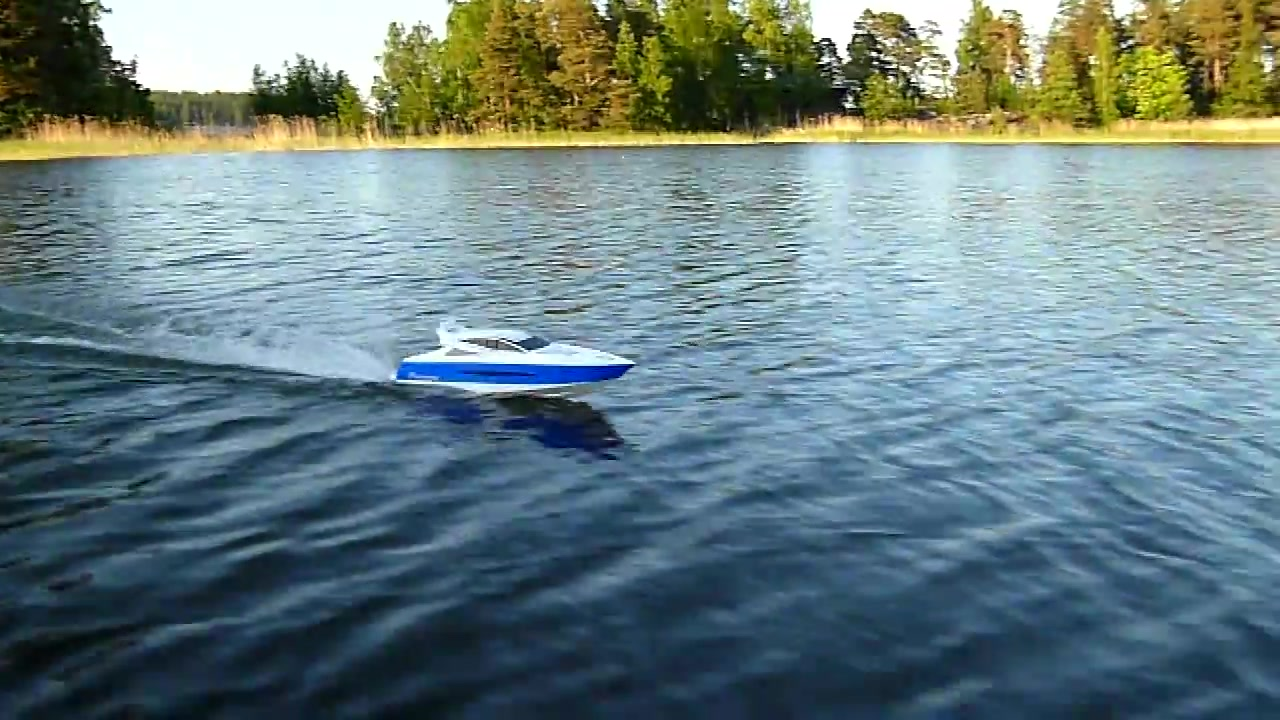boat: (378, 317, 640, 399)
